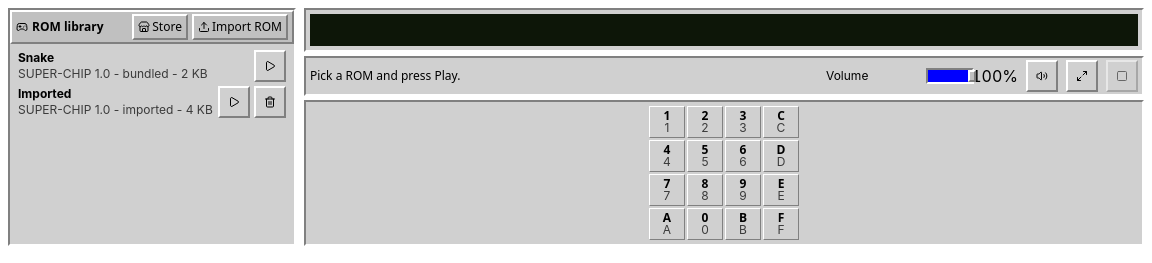
game route › expands the scene on demand and leaves it with Escape
The image size is (1152, 263).
Expected: the text "Snake" is shown, [18,50,54,65]
Click the button named "Expand the screen": (1082, 76) [1066,60,1098,92]
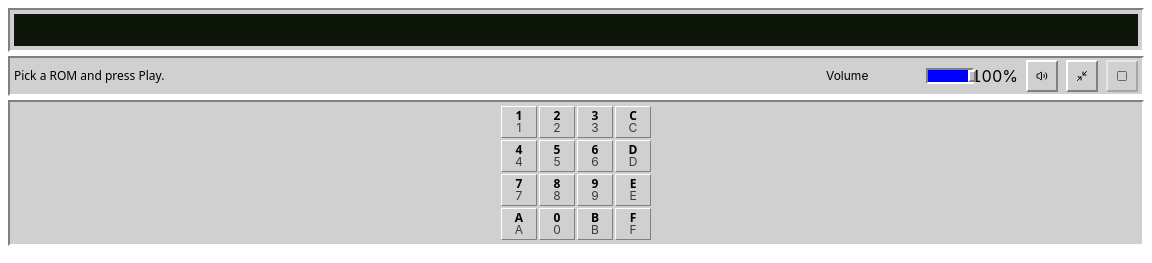
Now the text "Snake" is gone
Now the button named "Collapse the screen" is shown, box [1066,60,1098,92]
Press Escape
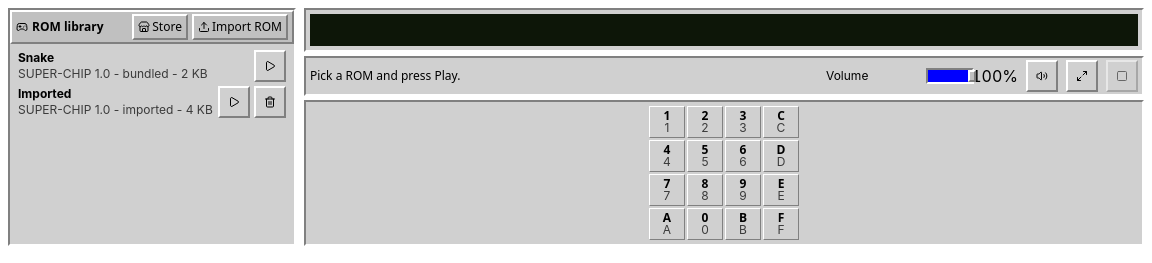
Now the text "Snake" is shown, box [18,50,54,65]
